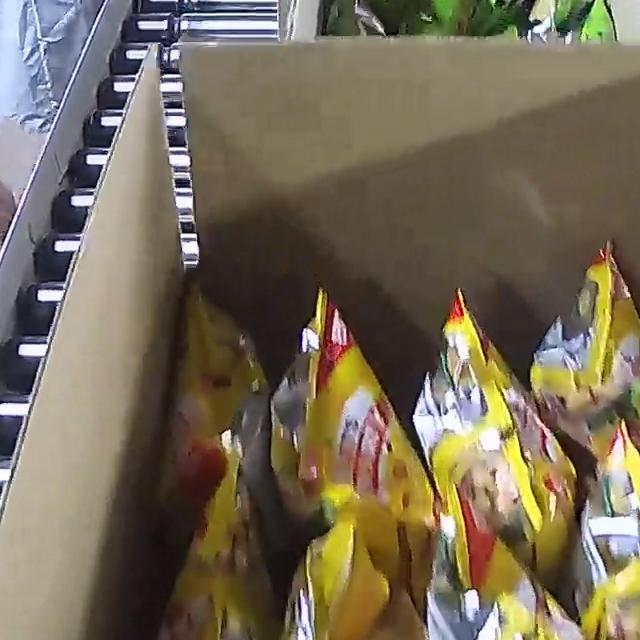salted: (102, 238, 640, 640)
yogurt: (337, 0, 615, 55)
